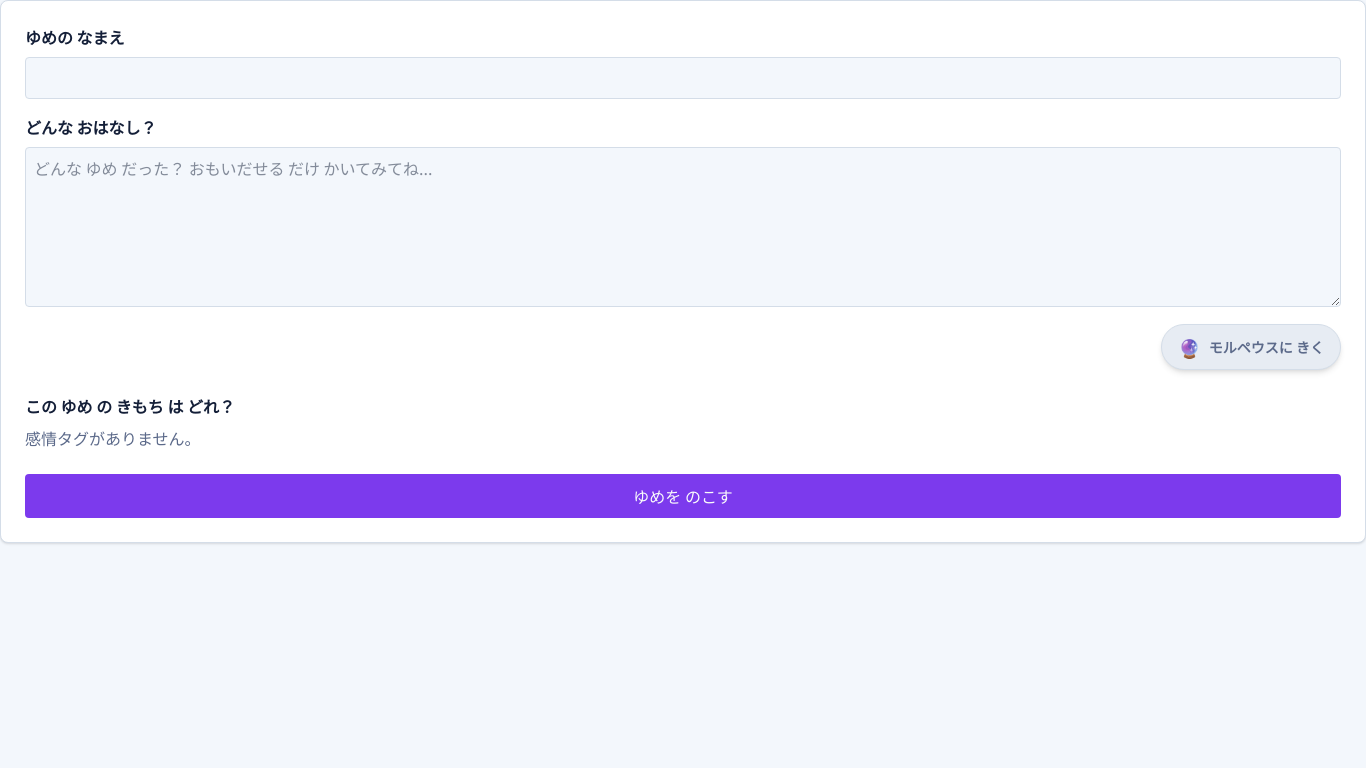
Test: DreamForm › shows the email verification banner when analysis is blocked for unverified users
The width and height of the screenshot is (1366, 768).
Type "空を飛ぶ夢" into the text box labelled "どんな おはなし？" at (683, 227), box 25,147 -> 1341,307
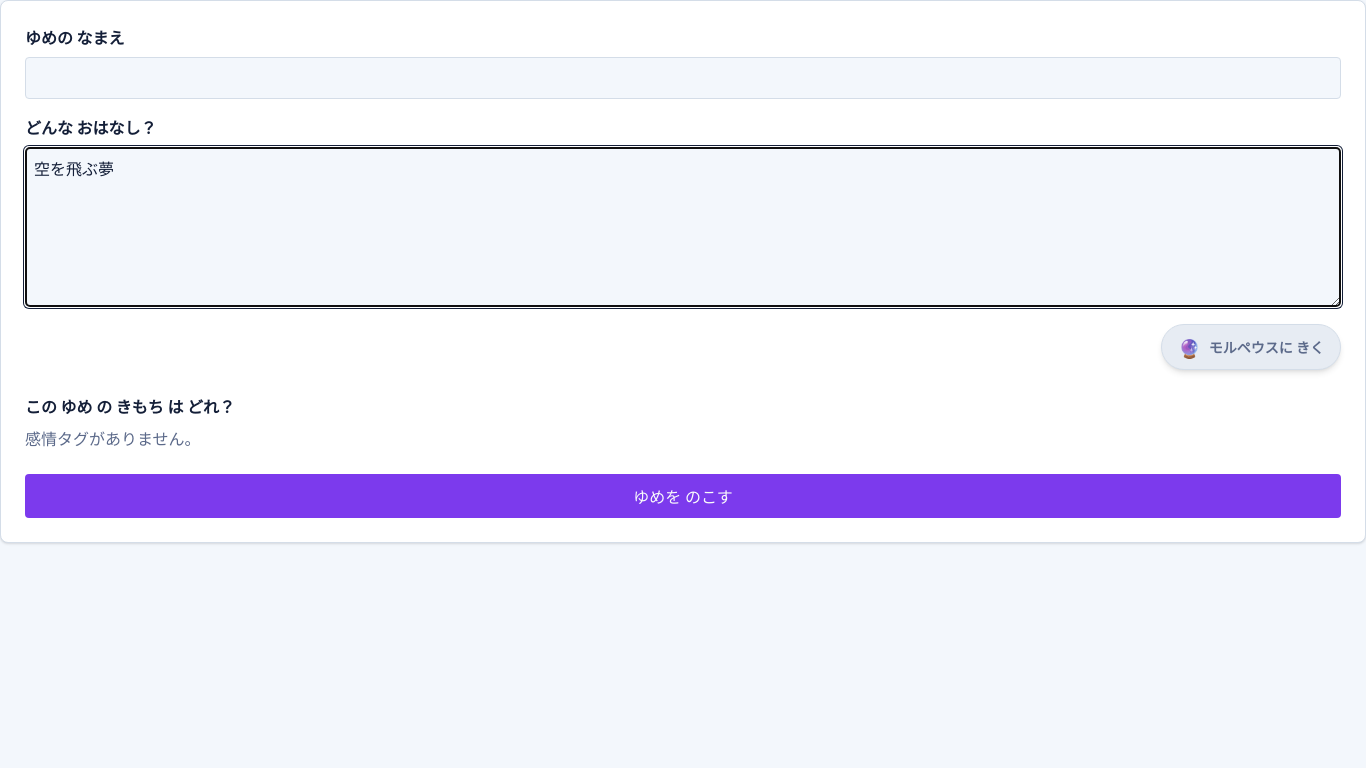
Click the button "🔮 モルペウスに きく" at (1251, 347), box 1161,324 -> 1341,370
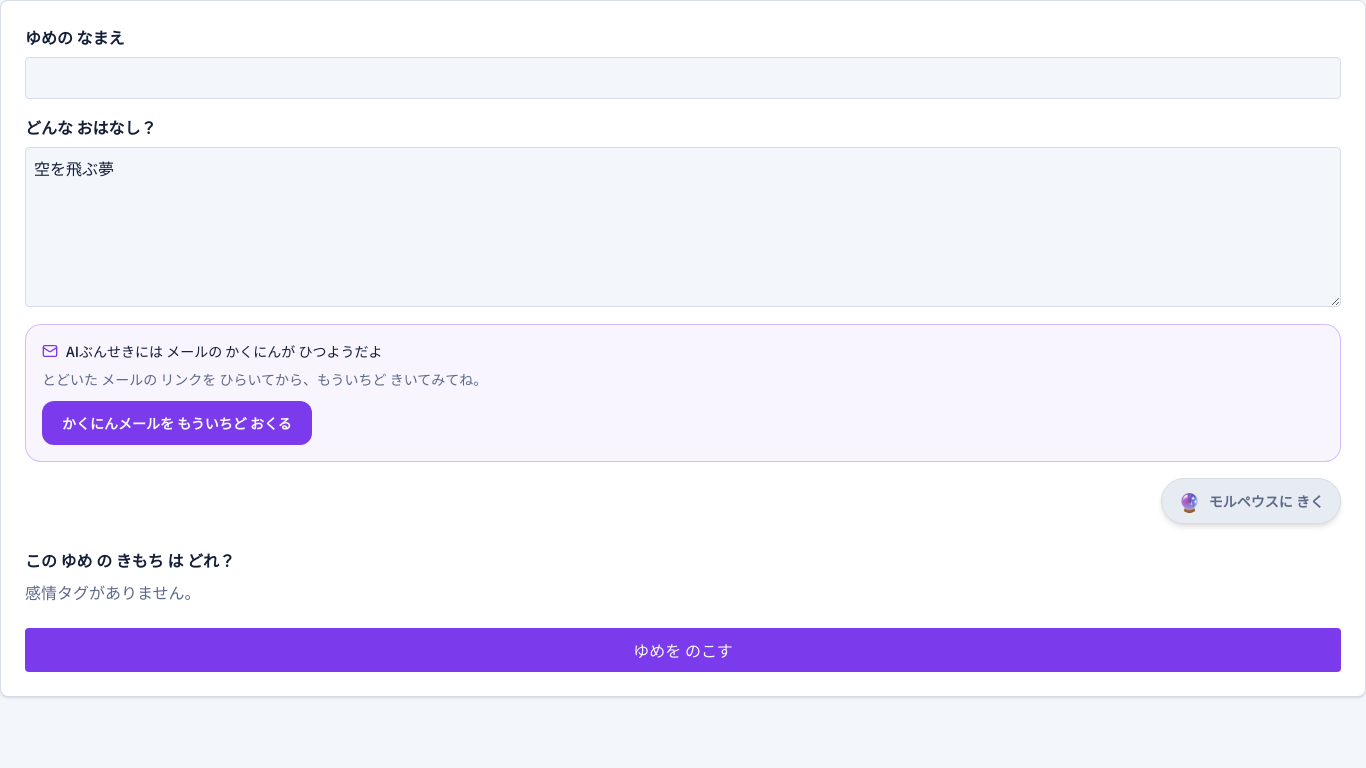
Check: the text "AIぶんせきには メールの かくにんが ひつようだよ" is shown, box 66,341 -> 382,361
Check: the button "かくにんメールを もういちど おくる" is shown, box 42,401 -> 312,445
